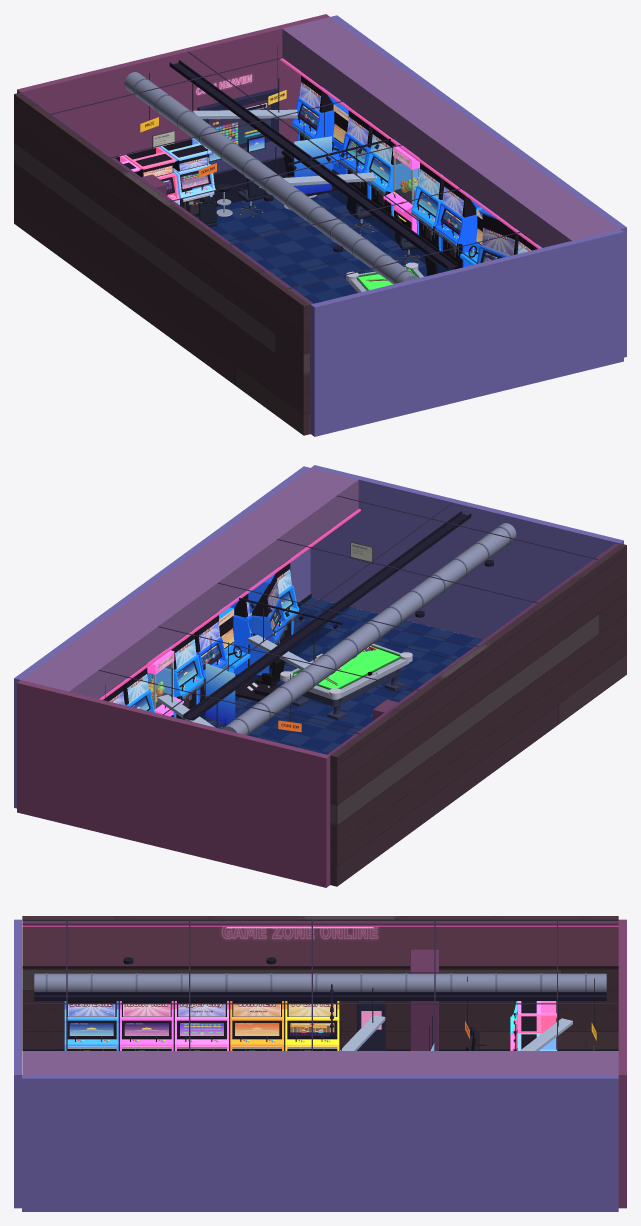
File: game-room-1.glb
The picture shows the model from 3 angles, top to bottom: view 1: azimuth 30°, elevation 25°; view 2: azimuth 150°, elevation 25°; view 3: azimuth 270°, elevation 25°; orthographic projection. The views are drawn at different scales.
Visible parts, largest first — view 1: object 35, object 34, object 40, object 36, object 31, object 170, object 59, object 172, object 41, object 89, spot:arcade-claw, object 51 (+16 smaller); view 2: object 36, object 34, object 35, object 40, object 31, object 170, object 172, object 59, object 41, spot:arcade-claw, object 81, object 142 (+9 smaller); view 3: object 35, object 37, object 34, object 40, object 170, object 172, object 59, object 43, spot:arcade-coin, object 36, object 41, object 48 (+21 smaller).
Part boxes in pixels (<box>): object 35: <box>310,15,626,436</box>; object 34: <box>14,92,310,435</box>; object 40: <box>282,17,619,247</box>; object 36: <box>17,14,329,157</box>; object 31: <box>209,157,453,303</box>; object 170: <box>124,72,418,284</box>; object 59: <box>115,71,537,268</box>; object 172: <box>169,60,457,269</box>; object 41: <box>51,50,549,288</box>; object 89: <box>292,71,484,267</box>; spot:arcade-claw: <box>411,158,443,250</box>; object 51: <box>191,109,374,187</box>; object 36: <box>17,680,330,887</box>; object 34: <box>330,543,626,886</box>; object 35: <box>14,465,623,808</box>; object 40: <box>21,468,358,698</box>; object 31: <box>200,598,483,754</box>; object 170: <box>222,523,516,734</box>; object 172: <box>183,511,493,720</box>; object 59: <box>103,559,293,717</box>; object 41: <box>98,495,598,734</box>; spot:arcade-claw: <box>147,628,203,718</box>; object 81: <box>248,566,286,675</box>; object 142: <box>293,648,399,689</box>; object 35: <box>14,919,618,1211</box>; object 37: <box>22,926,618,965</box>; object 34: <box>22,916,618,1049</box>; object 40: <box>22,1051,618,1074</box>; object 170: <box>34,973,606,991</box>; object 172: <box>34,957,606,1037</box>; object 59: <box>67,1001,556,1050</box>; object 43: <box>22,921,618,925</box>; spot:arcade-coin: <box>230,1001,283,1050</box>; object 36: <box>618,919,626,1208</box>; object 41: <box>22,919,618,1050</box>; object 48: <box>410,949,438,1050</box>.
Bounding box in the file's own units: 9.4 × 3.6 × 15.
Materials: 182 (72 with a texture image).
